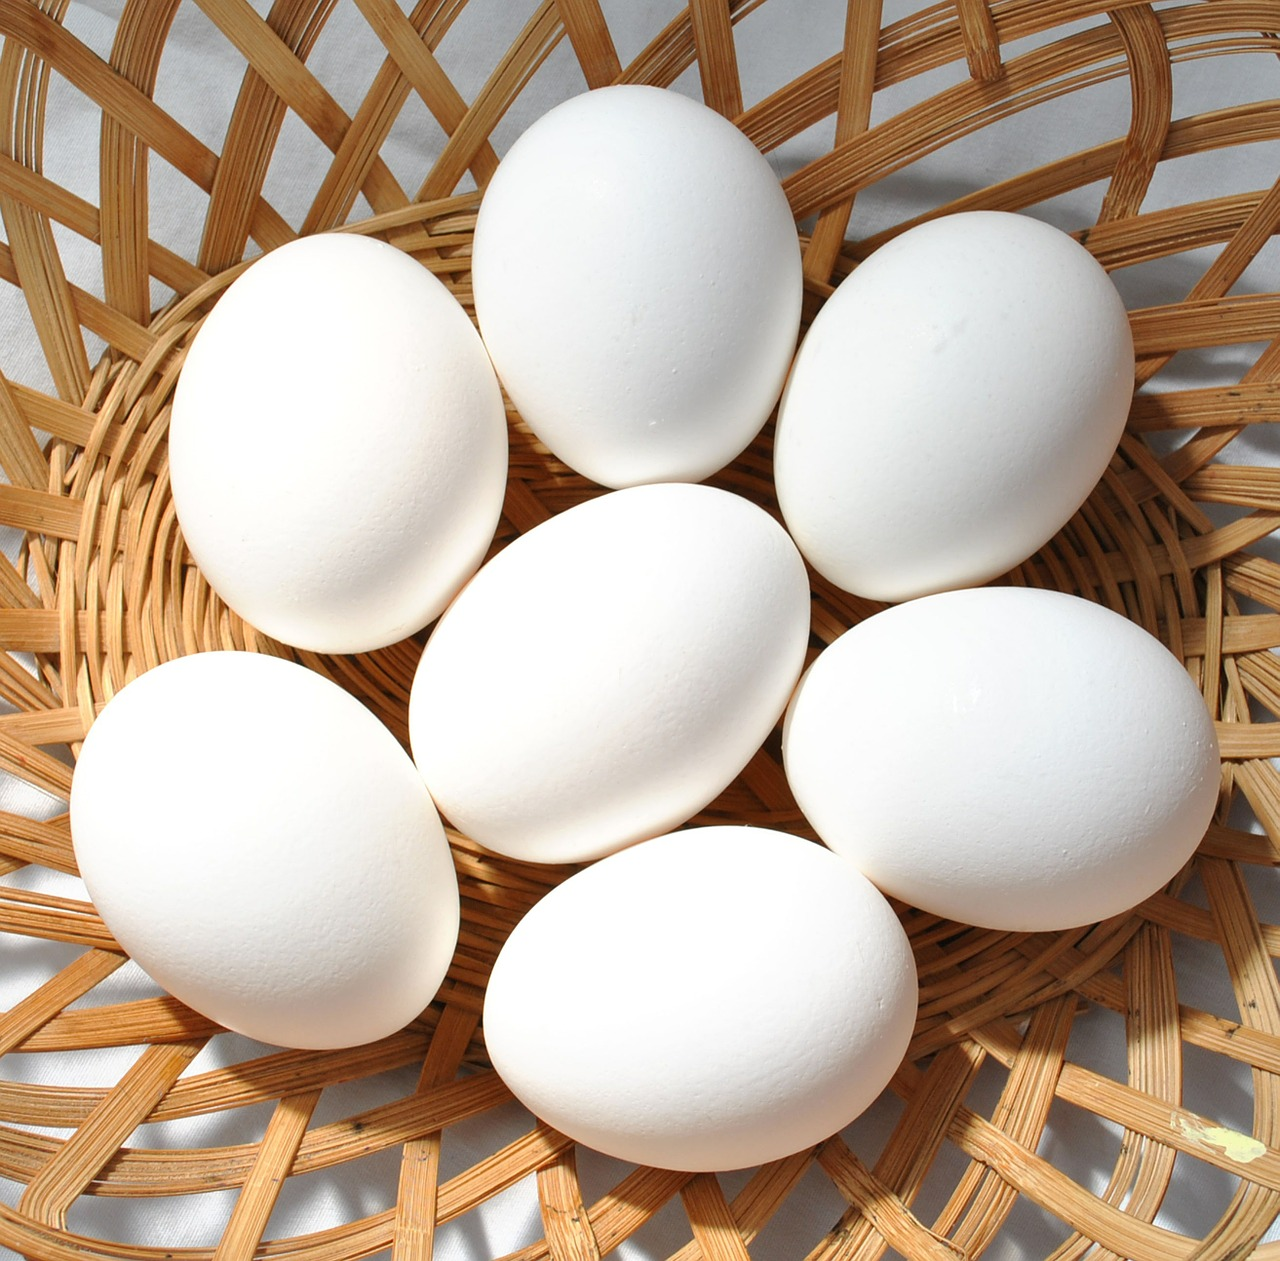Egg: (392, 470, 827, 920), (759, 579, 1243, 954), (47, 650, 482, 1062), (744, 200, 1149, 630), (478, 815, 924, 1191), (159, 223, 527, 669), (452, 80, 816, 497)
